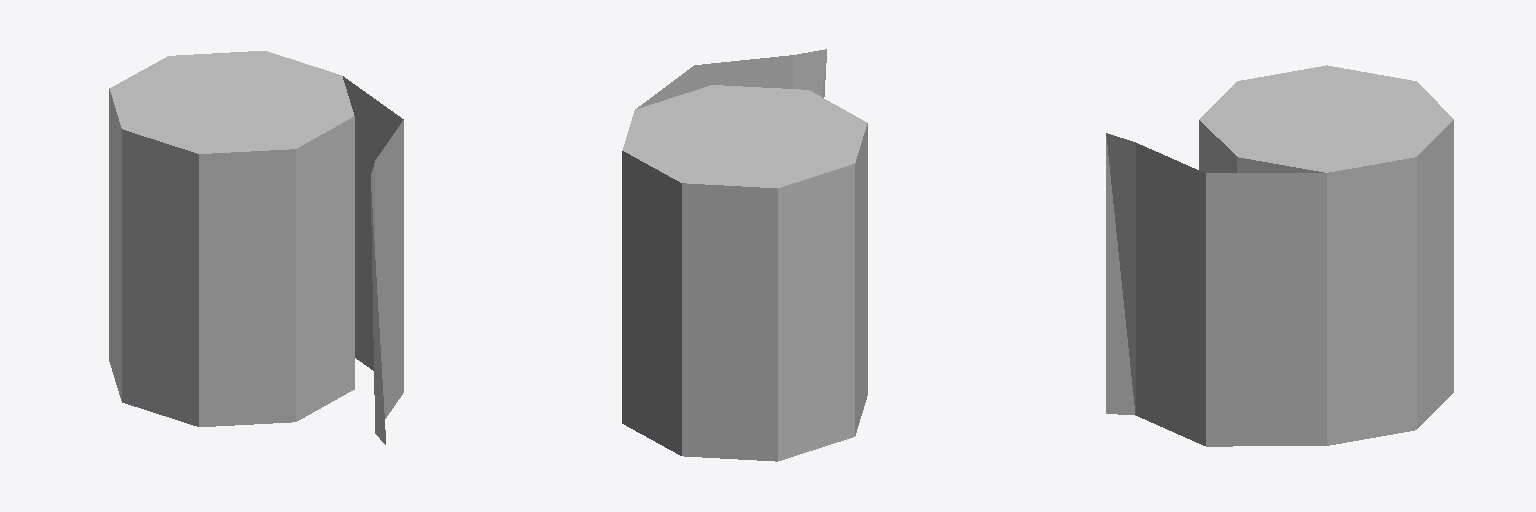
The model's file is Bandage.obj.
The picture shows the model from 3 angles: view 1: azimuth 30°, elevation 25°; view 2: azimuth 150°, elevation 25°; view 3: azimuth 270°, elevation 25°; orthographic projection.
Visible parts, largest first — view 1: Cube; view 2: Cube; view 3: Cube.
Part boxes in pixels (x1,y1,x2,y2): Cube: (109,51,403,444); Cube: (622,49,867,461); Cube: (1106,65,1453,446).
Size of the model in its own units: 1.03 by 1.21 by 1.4.